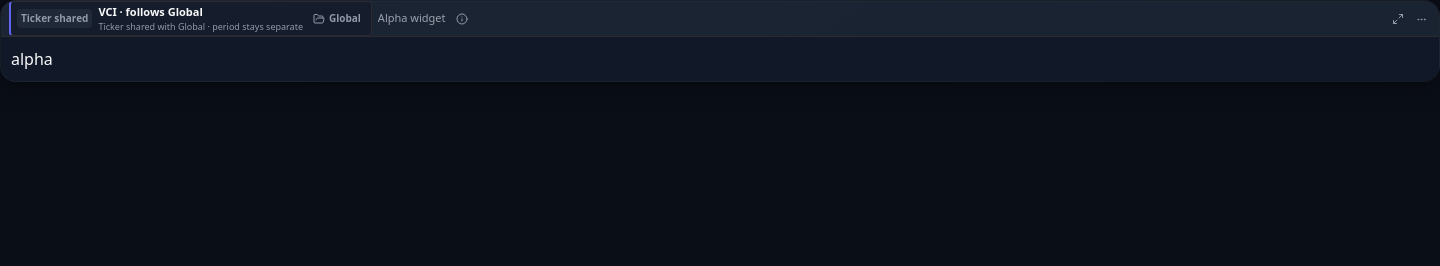
Test: WidgetGroupSelector ticker scope › labels every group entry with the ticker that picking it would apply
Click the button with aria-label "Ticker group: ": (337, 18) x1=309 y1=9 x2=365 y2=28
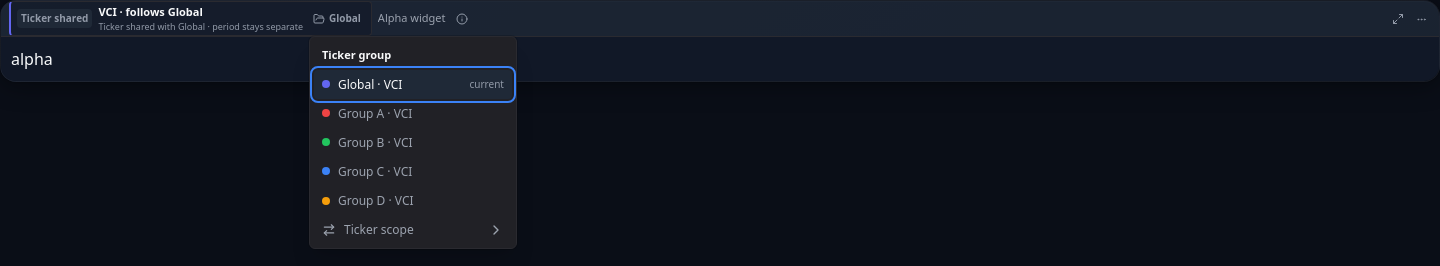
Expected: the menu item "Global · VCI current" is shown, x1=314 y1=70 x2=512 y2=99
Expected: the menu item "Group A · VCI" is shown, x1=322 y1=105 x2=412 y2=122
Expected: the menu item "Group B · VCI" is shown, x1=322 y1=134 x2=413 y2=151
